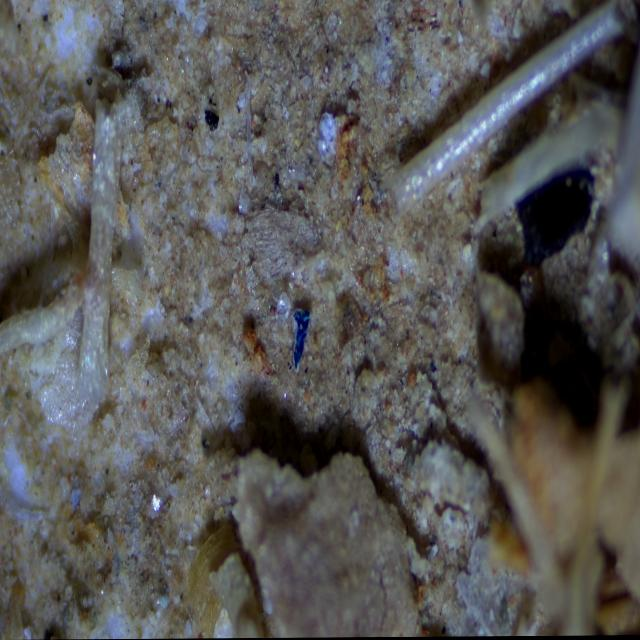microplastic: (283, 312, 314, 367)
